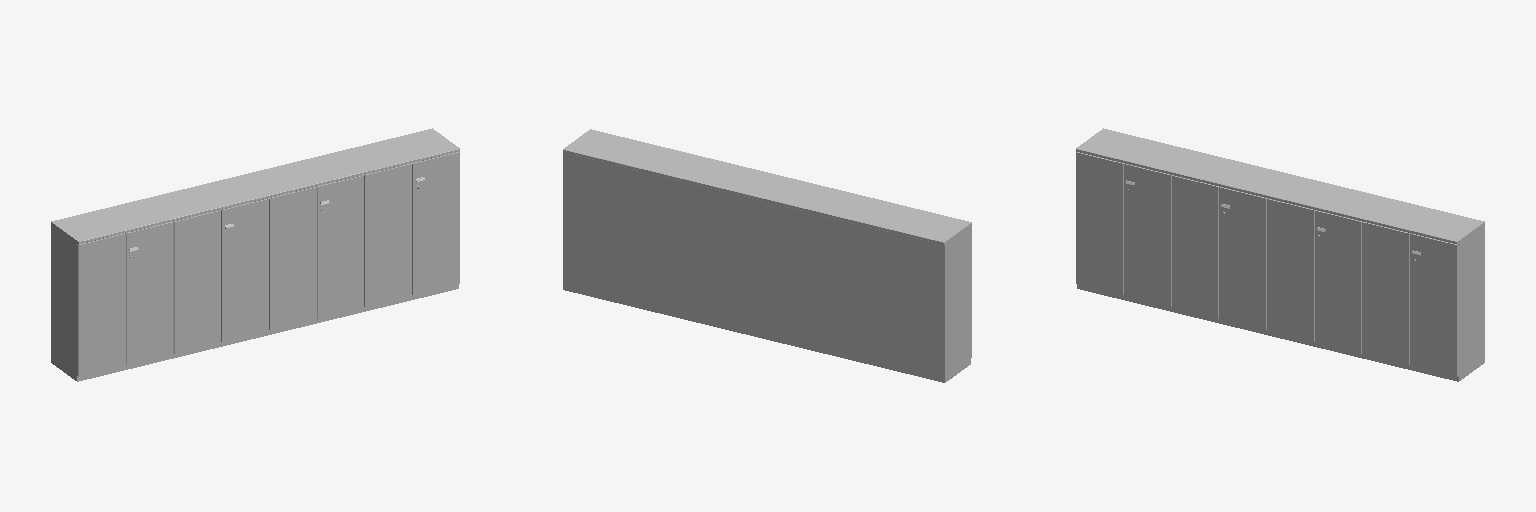
Rendered from lockers.obj.
The picture shows the model from 3 angles: view 1: azimuth 30°, elevation 25°; view 2: azimuth 150°, elevation 25°; view 3: azimuth 330°, elevation 25°; orthographic projection.
Visible parts, largest first — view 1: shkaf_0; view 2: shkaf_0; view 3: shkaf_0.
Boxes of the visible parts, box(x1,y1,x2,y2) form: shkaf_0: box(51, 128, 459, 381); shkaf_0: box(563, 129, 971, 382); shkaf_0: box(1076, 128, 1484, 381).
Bounding box in the file's own units: 134 × 47.28 × 17.54.